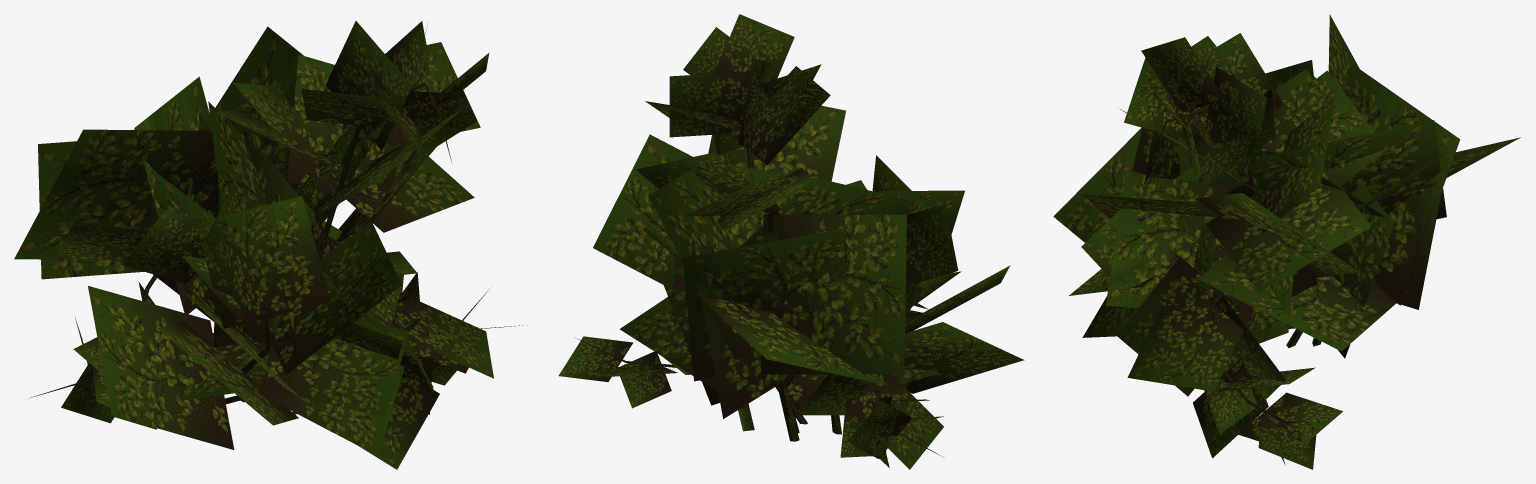
The model's file is DeadRose 2.1.fbx.
The picture shows the model from 3 angles, left to right: view 1: azimuth 30°, elevation 25°; view 2: azimuth 150°, elevation 25°; view 3: azimuth 270°, elevation 25°; orthographic projection. The views are drawn at different scales.
Parts seen in each view (by area): view 1: DeadRose_2_1; view 2: DeadRose_2_1; view 3: DeadRose_2_1.
Boxes of the visible parts, x1=… form: DeadRose_2_1: x1=14, y1=21, x2=527, y2=469; DeadRose_2_1: x1=558, y1=14, x2=1024, y2=469; DeadRose_2_1: x1=1053, y1=14, x2=1520, y2=469.
Bounding box in the file's own units: 338 × 324 × 320.
